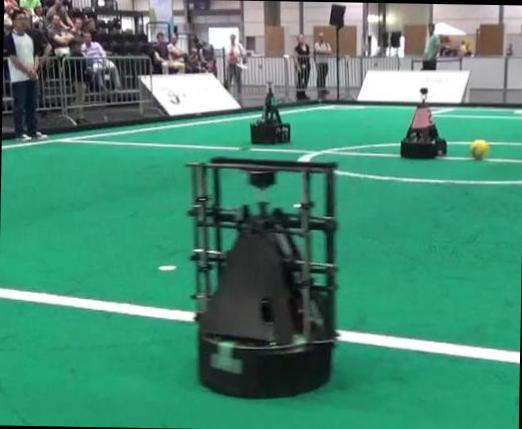ball: (469, 139, 489, 159)
person: (6, 8, 46, 141)
robot: (187, 156, 335, 396), (250, 82, 290, 143), (400, 104, 445, 156)
